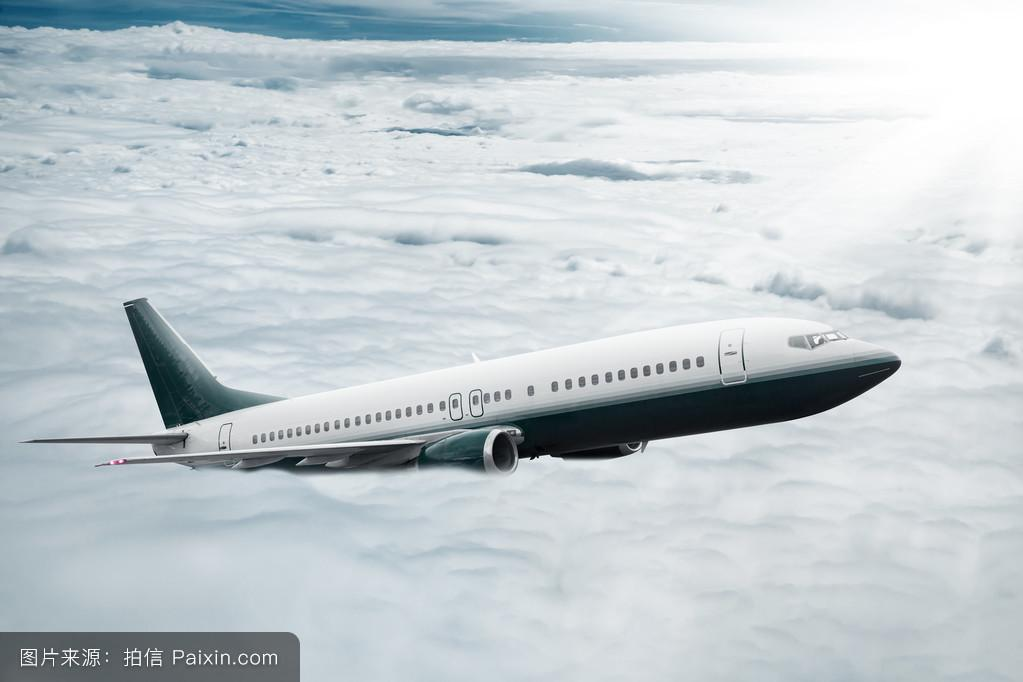airplane: (47, 284, 923, 470)
